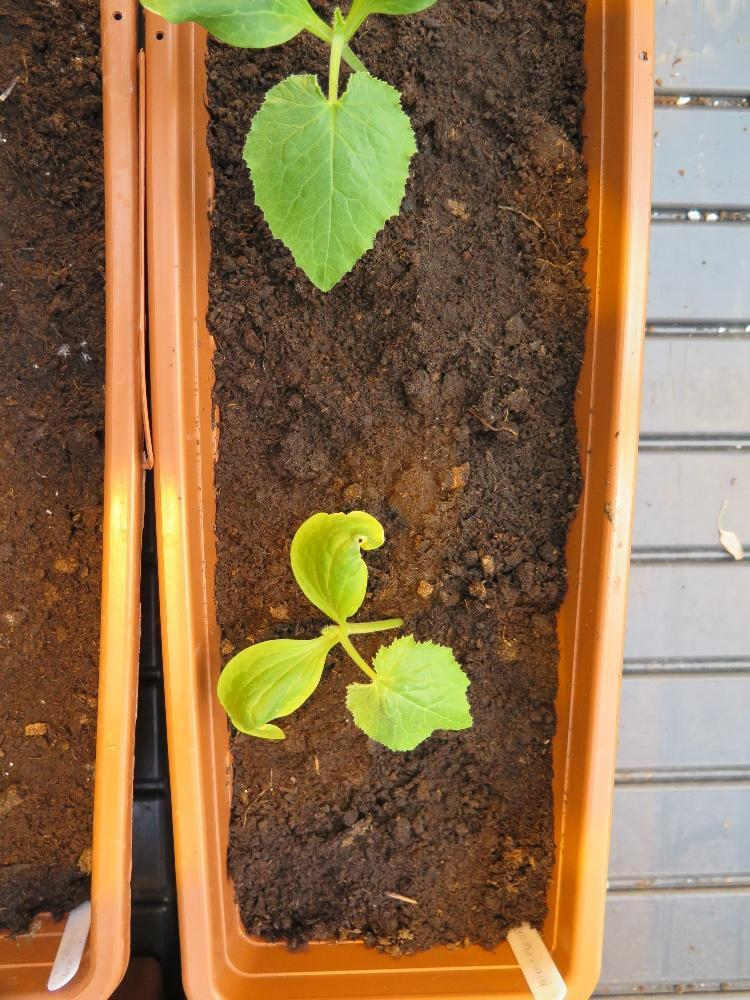crop: (208, 509, 475, 752)
